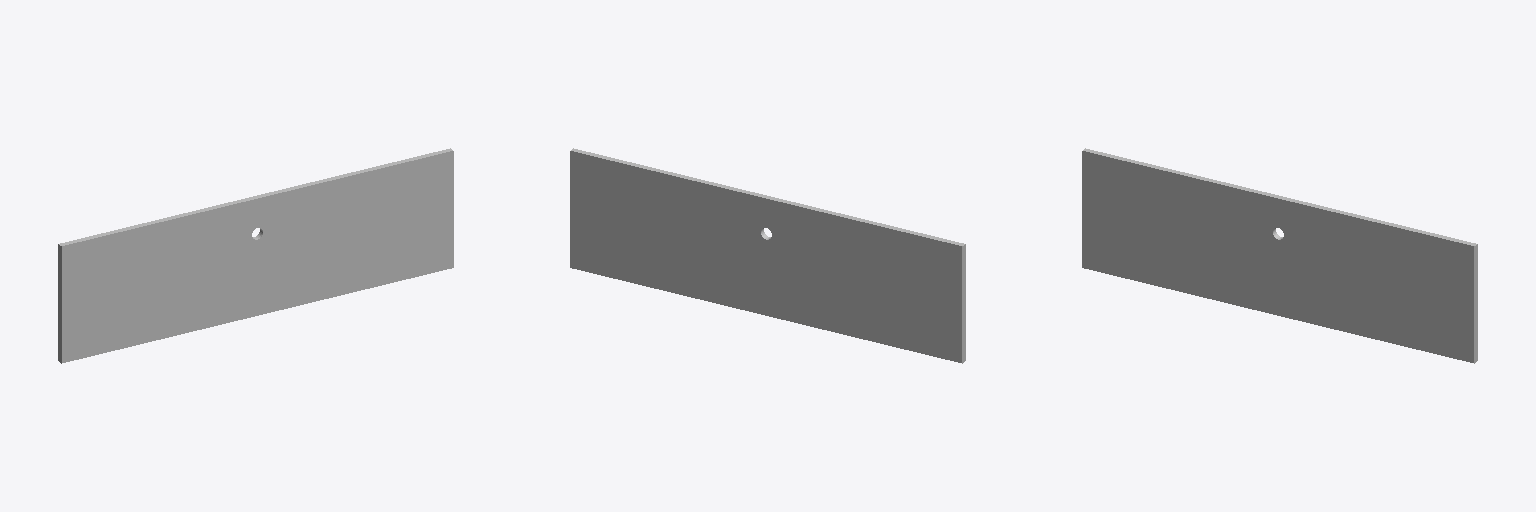
The model's file is side.obj.
3 views of the same model, side by side, from view 1: azimuth 30°, elevation 25°; view 2: azimuth 150°, elevation 25°; view 3: azimuth 330°, elevation 25° (orthographic).
Parts seen in each view (by area): view 1: Cube_Cube.001; view 2: Cube_Cube.001; view 3: Cube_Cube.001.
Boxes of the visible parts, x1=… form: Cube_Cube.001: x1=58, y1=148, x2=453, y2=363; Cube_Cube.001: x1=570, y1=148, x2=965, y2=363; Cube_Cube.001: x1=1082, y1=148, x2=1477, y2=363.
Bounding box in the file's own units: 140 × 40 × 2.